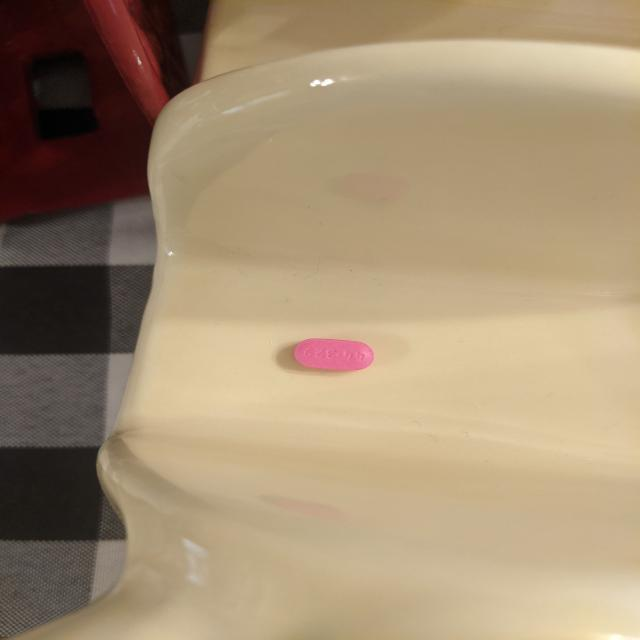non-organic waste: (294, 337, 375, 371)
